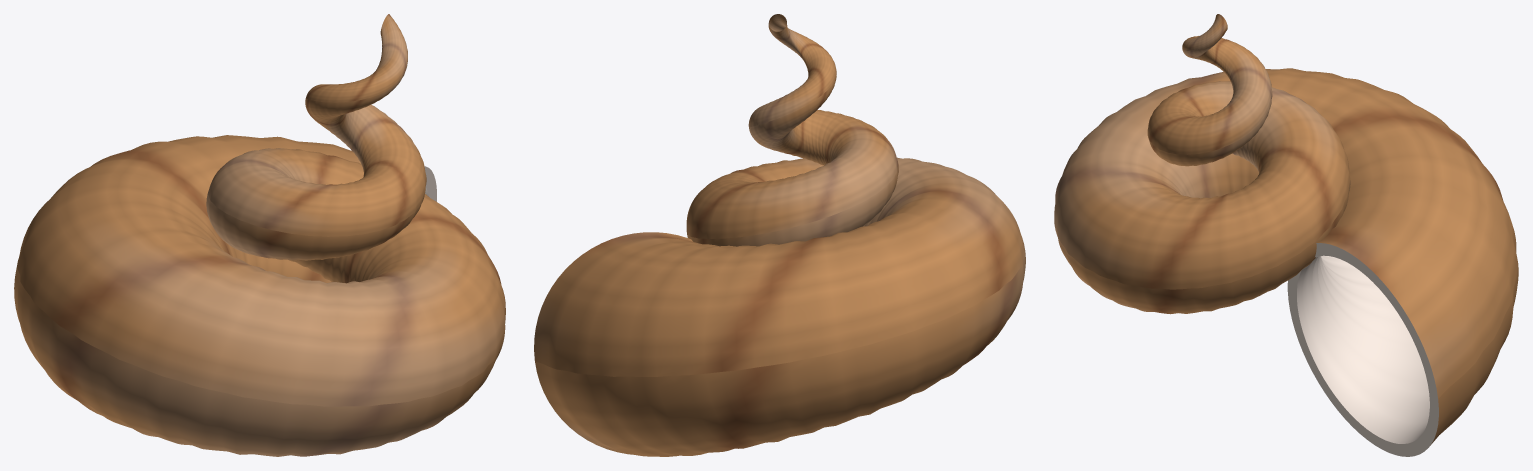
Rendered from triton.glb.
The picture shows the model from 3 angles, left to right: view 1: azimuth 30°, elevation 25°; view 2: azimuth 150°, elevation 25°; view 3: azimuth 270°, elevation 25°; orthographic projection. The views are drawn at different scales.
Visible parts, largest first — view 1: triton; view 2: triton; view 3: triton.
Part boxes in pixels (x1,y1,x2,y2): triton: (14,14,505,456); triton: (534,14,1025,456); triton: (1054,14,1518,456).
Size of the model in its own units: 1.54 by 1.53 by 1.57.
